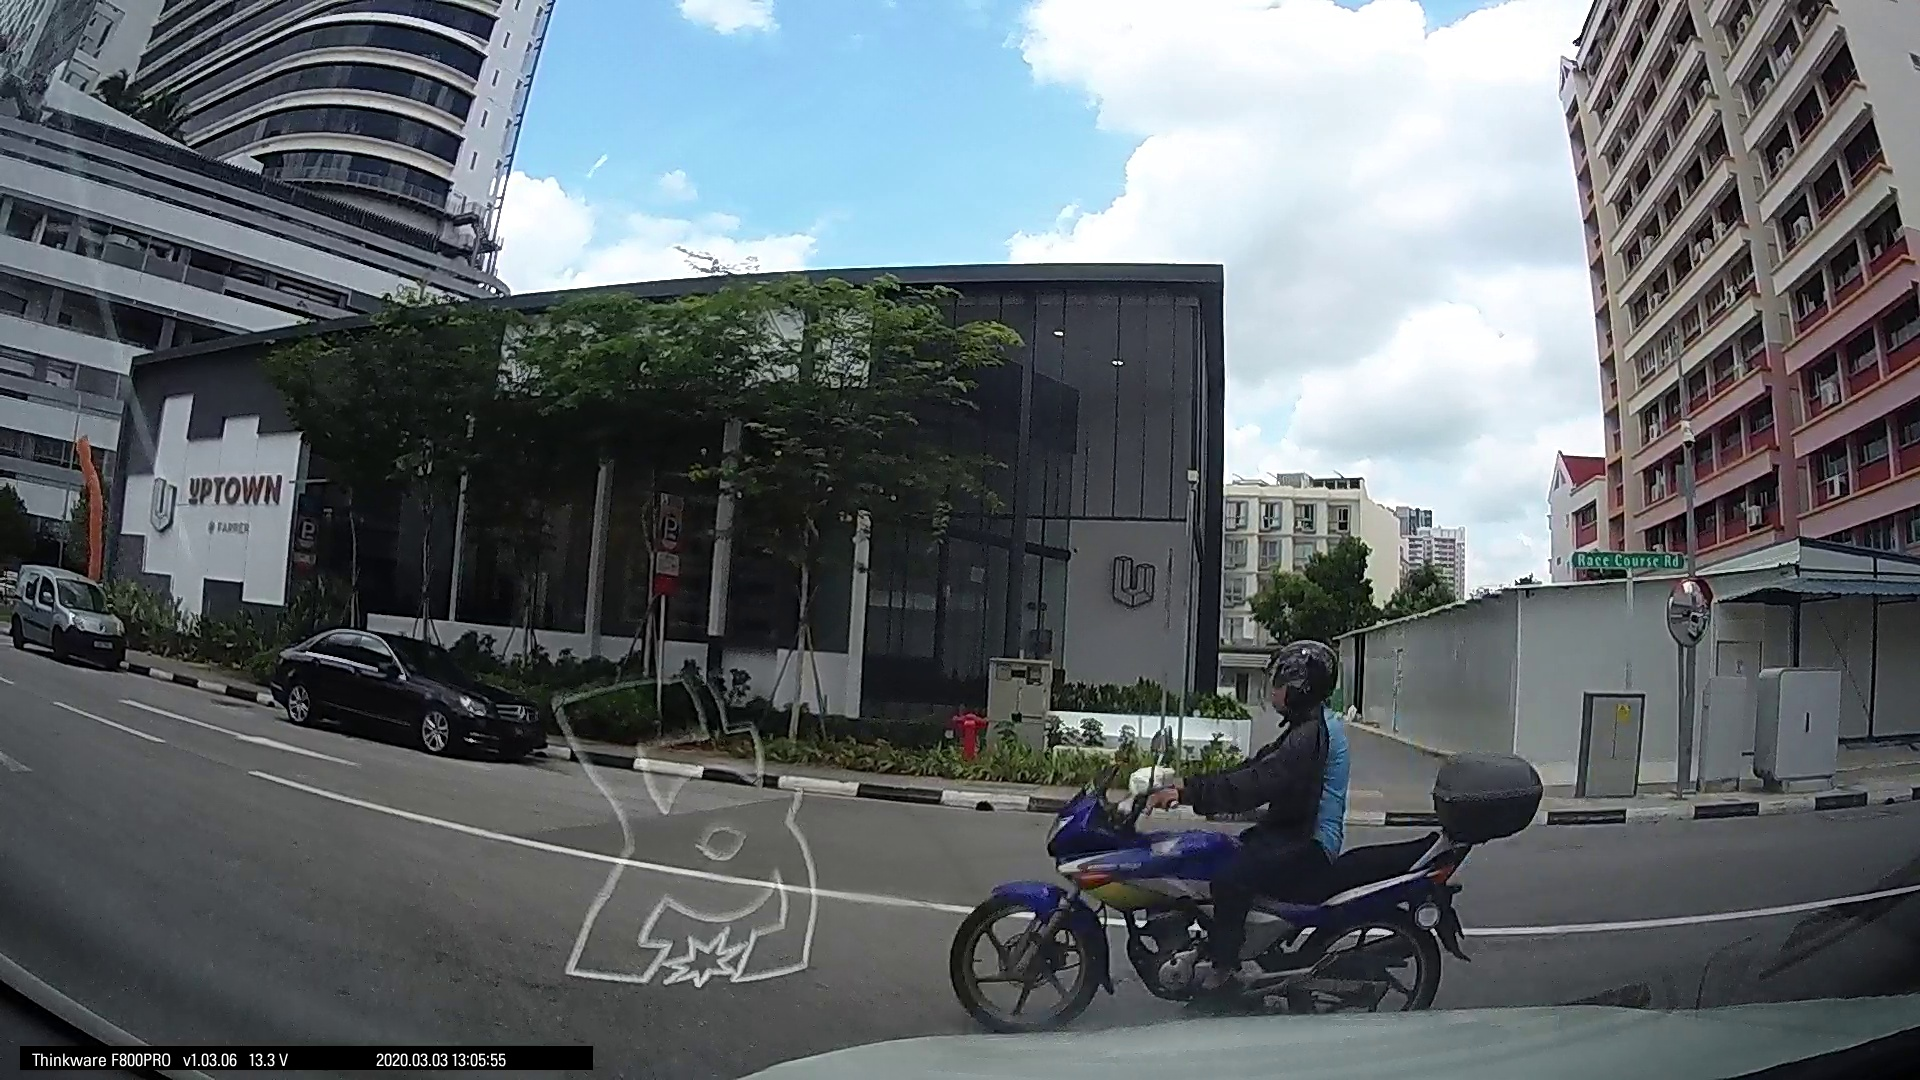Light Vehicle: (260, 621, 545, 760), (5, 556, 132, 670)
Motorcycle: (1000, 705, 1520, 1034)
